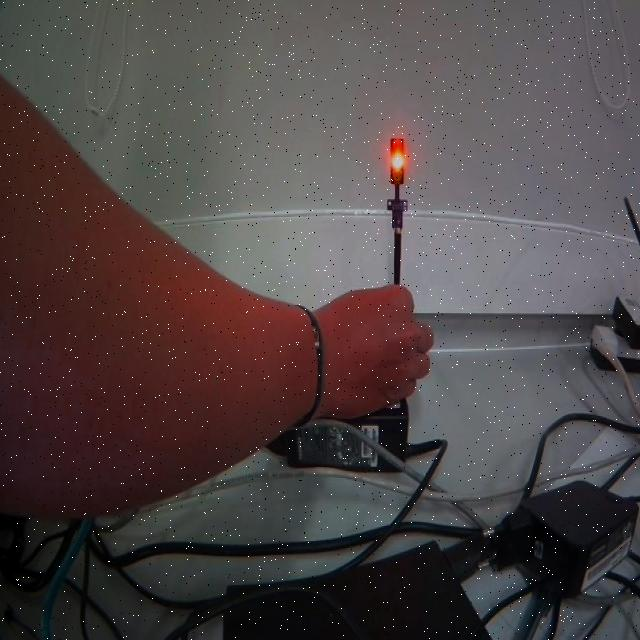Lampu Kuning: (389, 137, 404, 184)
